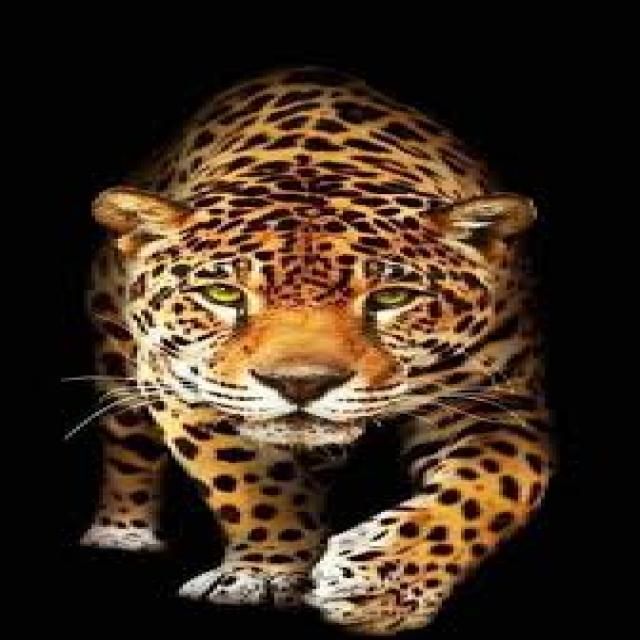Jaguar: (72, 66, 556, 640)
